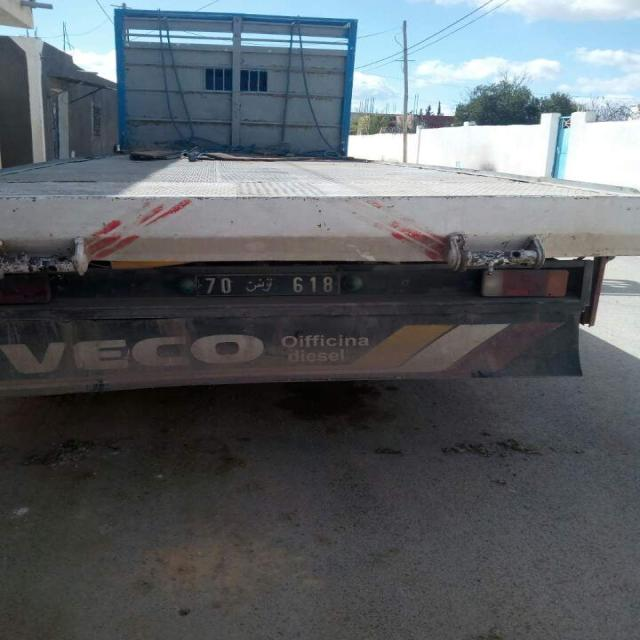LP: (194, 272, 342, 296)
